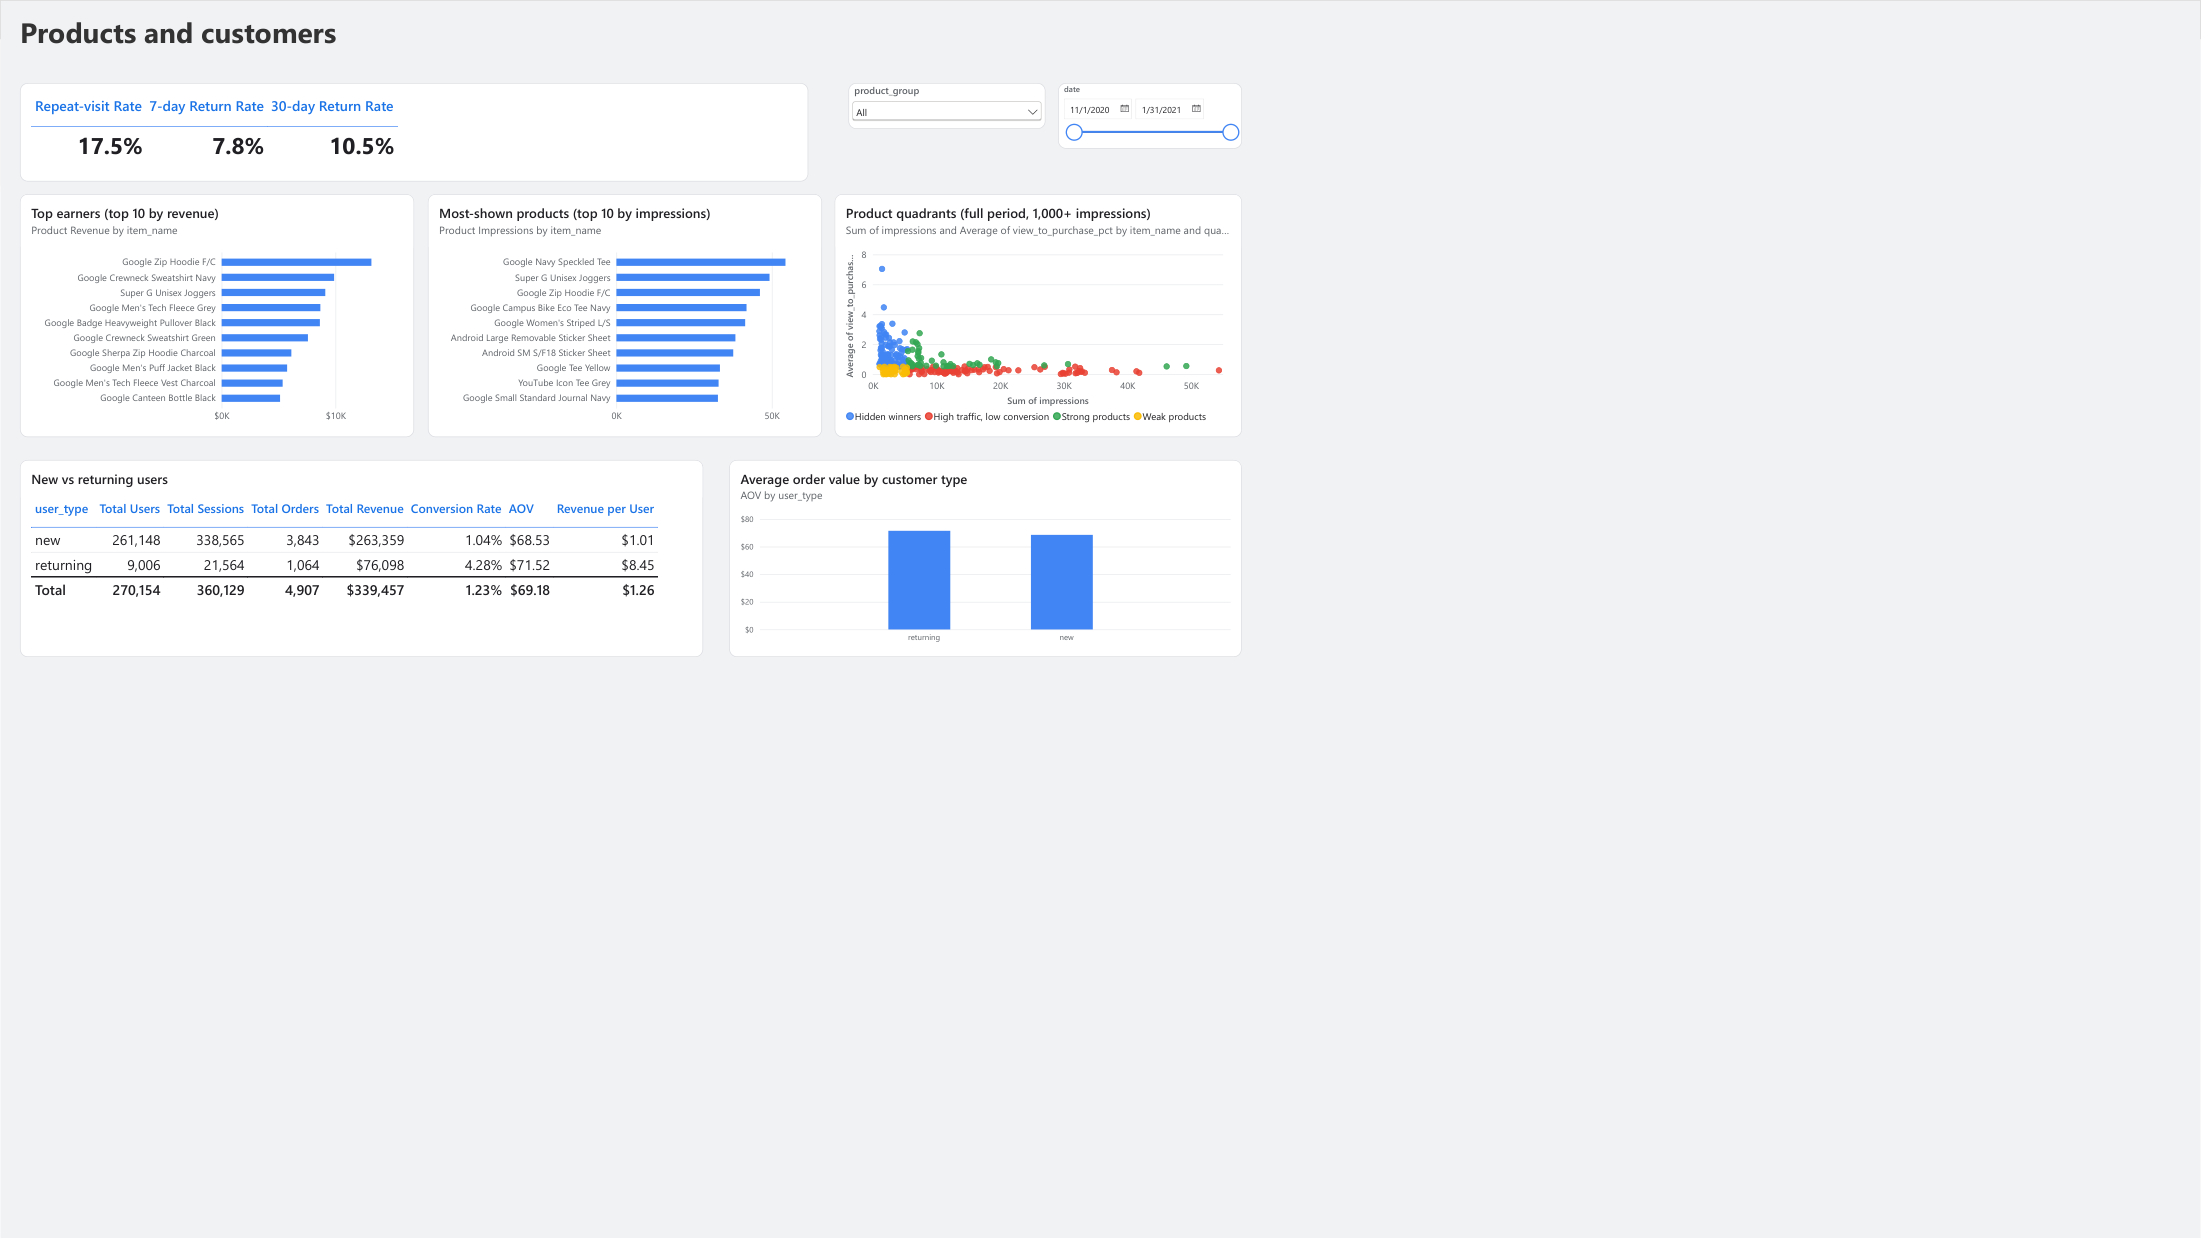

The dashboard page shown, as its layout file describes it:
{"tool":"powerbi","page":{"name":"Page 3","canvas":[1920,1080],"ordinal":2},"visuals":[{"type":"textbox","box":[30,20,900,70],"z":0},{"type":"slicer","fields":{"Values":["Products.product_group"]},"box":[1290,125,300,70],"z":1},{"type":"tableEx","fields":{"Values":["CohortDaily.Repeat-visit Rate","CohortDaily.7-day Return Rate","CohortDaily.30-day Return Rate"]},"box":[30,125,1200,150],"z":2},{"type":"slicer","fields":{"Values":["DimDate.date"]},"box":[1610,125,280,100],"z":3},{"type":"clusteredBarChart","title":"Top earners (top 10 by revenue)","fields":{"Category":["Products.item_name"],"Y":["ProductDaily.Product Revenue"]},"box":[30,295,600,370],"z":4},{"type":"clusteredBarChart","title":"Most-shown products (top 10 by impressions)","fields":{"Category":["Products.item_name"],"Y":["ProductDaily.Product Impressions"]},"box":[650,295,600,370],"z":5},{"type":"scatterChart","title":"Product quadrants (full period, 1,000+ impressions)","fields":{"Category":["Products.item_name"],"Series":["Products.quadrant"],"X":["Products.impressions"],"Y":["Products.view_to_purchase_pct"]},"box":[1270,295,620,370],"z":6},{"type":"tableEx","title":"New vs returning users","fields":{"Values":["SessionFacts.user_type","SessionFacts.Total Users","SessionFacts.Total Sessions","SessionFacts.Total Orders","SessionFacts.Total Revenue","SessionFacts.Conversion Rate","SessionFacts.AOV","SessionFacts.Revenue per User"]},"box":[30,700,1040,300],"z":7},{"type":"clusteredColumnChart","title":"Average order value by customer type","fields":{"Category":["SessionFacts.user_type"],"Y":["SessionFacts.AOV"]},"box":[1110,700,780,300],"z":8}]}

Visuals, with their boxes in screenshot pixels (x1, y1, x2, y2), scaled from the page's 1920x1080 canvas onto the 2201x1238 screenshot:
textbox: {"x1": 34, "y1": 23, "x2": 1066, "y2": 103}
slicer - Products.product_group: {"x1": 1479, "y1": 143, "x2": 1823, "y2": 224}
tableEx - CohortDaily.Repeat-visit Rate x CohortDaily.7-day Return Rate: {"x1": 34, "y1": 143, "x2": 1410, "y2": 315}
slicer - DimDate.date: {"x1": 1846, "y1": 143, "x2": 2167, "y2": 258}
"Top earners (top 10 by revenue)" clusteredBarChart: {"x1": 34, "y1": 338, "x2": 722, "y2": 762}
"Most-shown products (top 10 by impressions)" clusteredBarChart: {"x1": 745, "y1": 338, "x2": 1433, "y2": 762}
"Product quadrants (full period, 1,000+ impressions)" scatterChart: {"x1": 1456, "y1": 338, "x2": 2167, "y2": 762}
"New vs returning users" tableEx: {"x1": 34, "y1": 802, "x2": 1227, "y2": 1146}
"Average order value by customer type" clusteredColumnChart: {"x1": 1272, "y1": 802, "x2": 2167, "y2": 1146}
